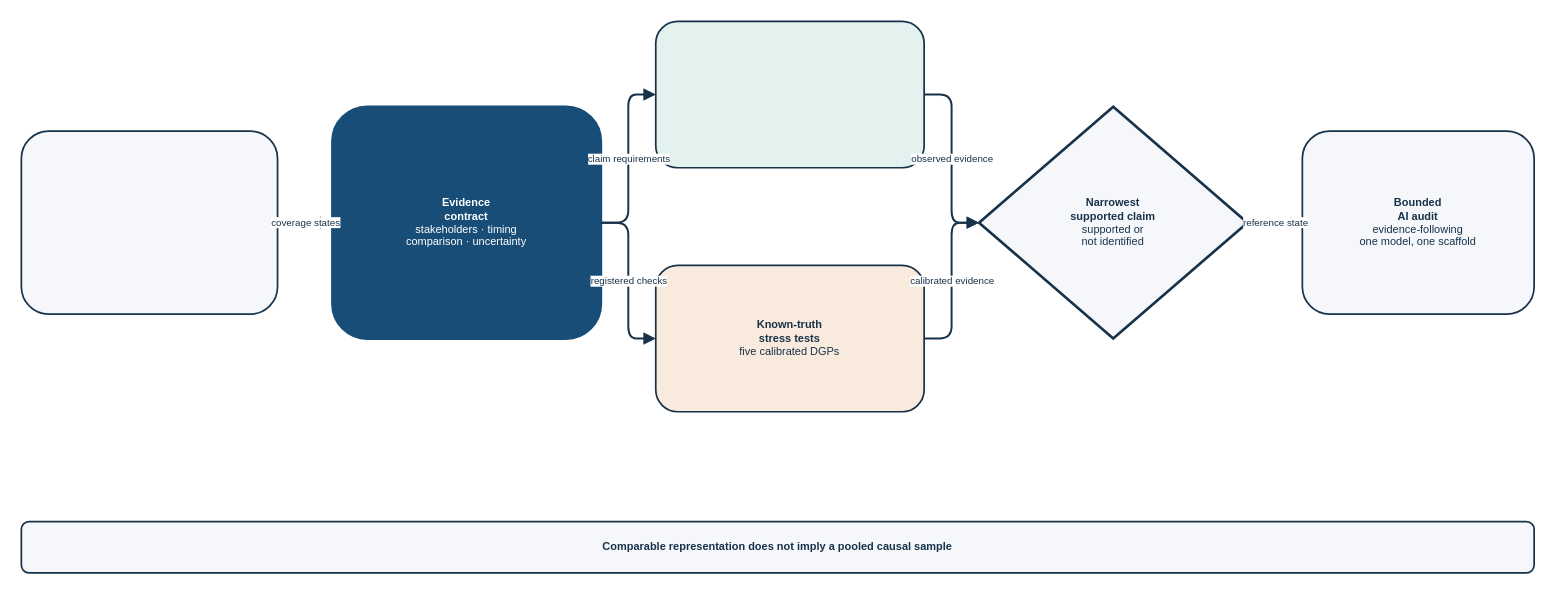
This 1557x595 diagram has some shape labels left out. The centre of each missing label's shape, as x and y in pixels:
"Evidence infrastructure four chains" belongs at (149,222).
"Real applications descriptive / predictive" belongs at (789,94).
